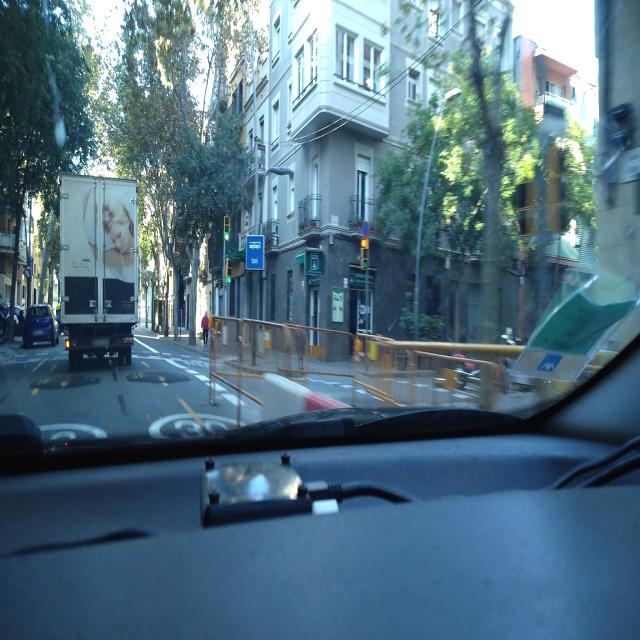car: (56, 168, 140, 372), (22, 302, 59, 350)
